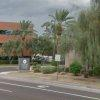Tree: (43, 9, 100, 79)
